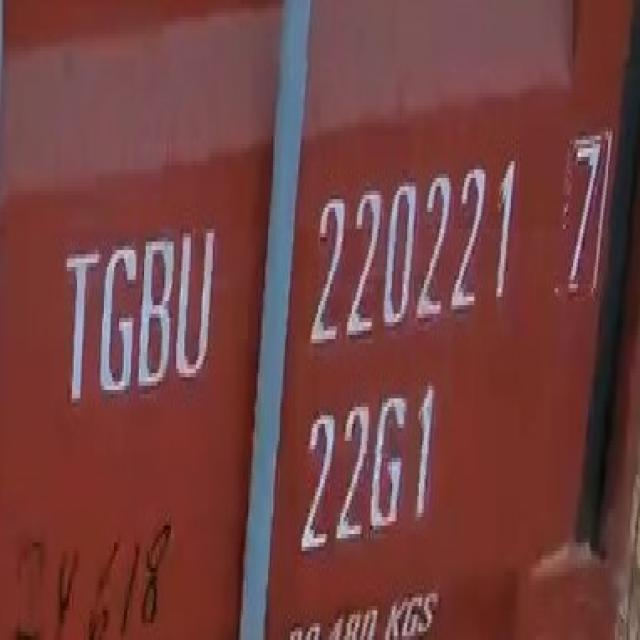dv: (560, 118, 610, 300)
owner: (50, 199, 229, 454)
serial: (298, 143, 526, 363)
size: (292, 379, 444, 575)
